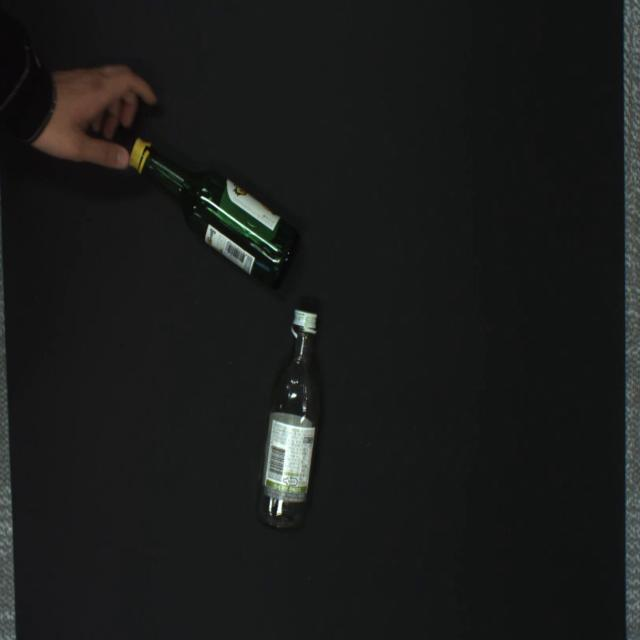soju-bottle: (129, 136, 300, 290), (256, 307, 321, 533)
